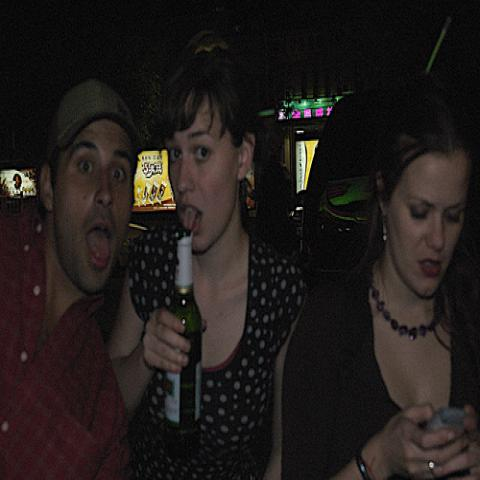car: (289, 95, 395, 270)
